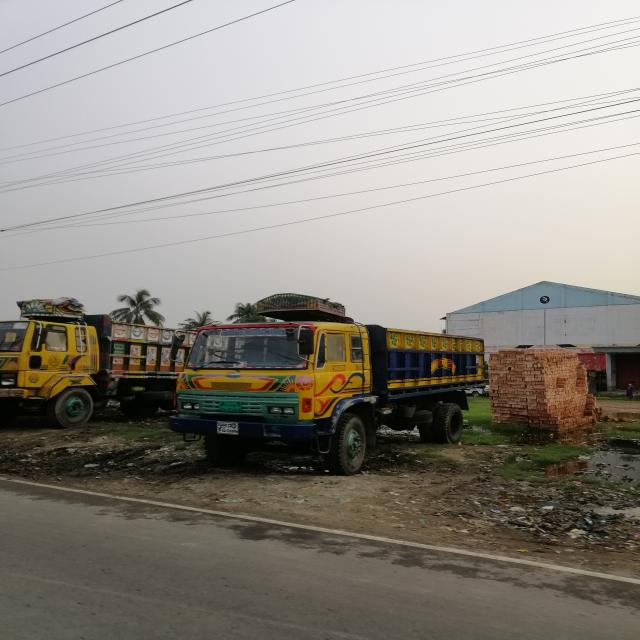Truck: (169, 292, 491, 480)
